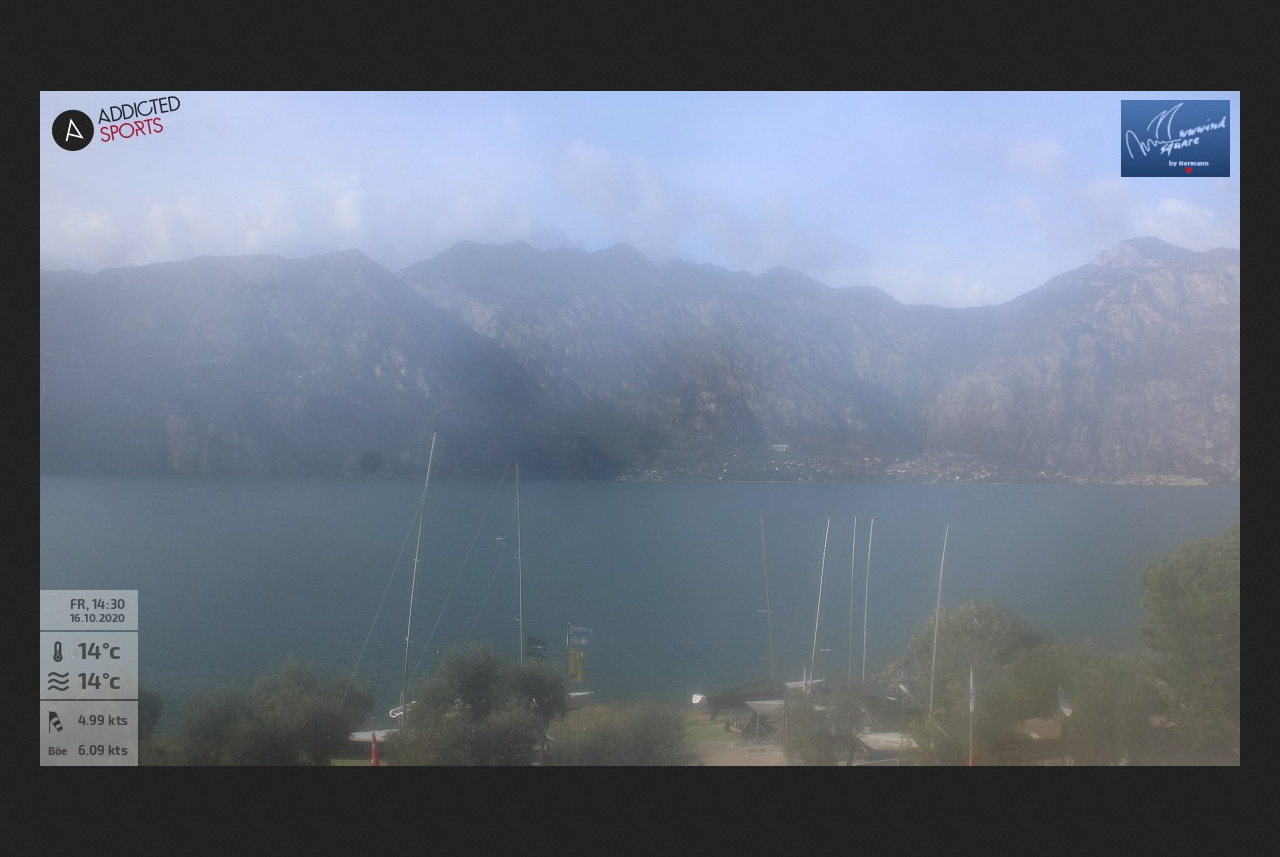yes: (566, 651, 588, 684), (567, 622, 594, 647), (526, 635, 546, 651)
